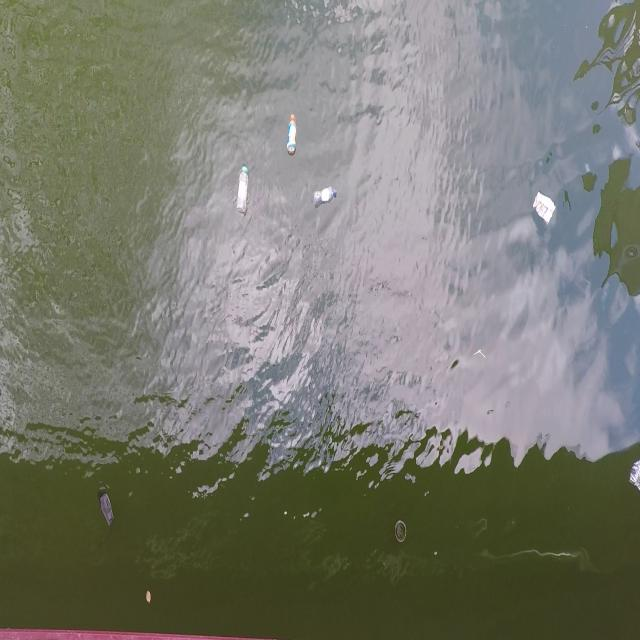Autre plastique: (393, 519, 410, 545)
Bouteille plastique: (234, 159, 252, 215), (285, 106, 301, 163), (311, 183, 340, 211)
